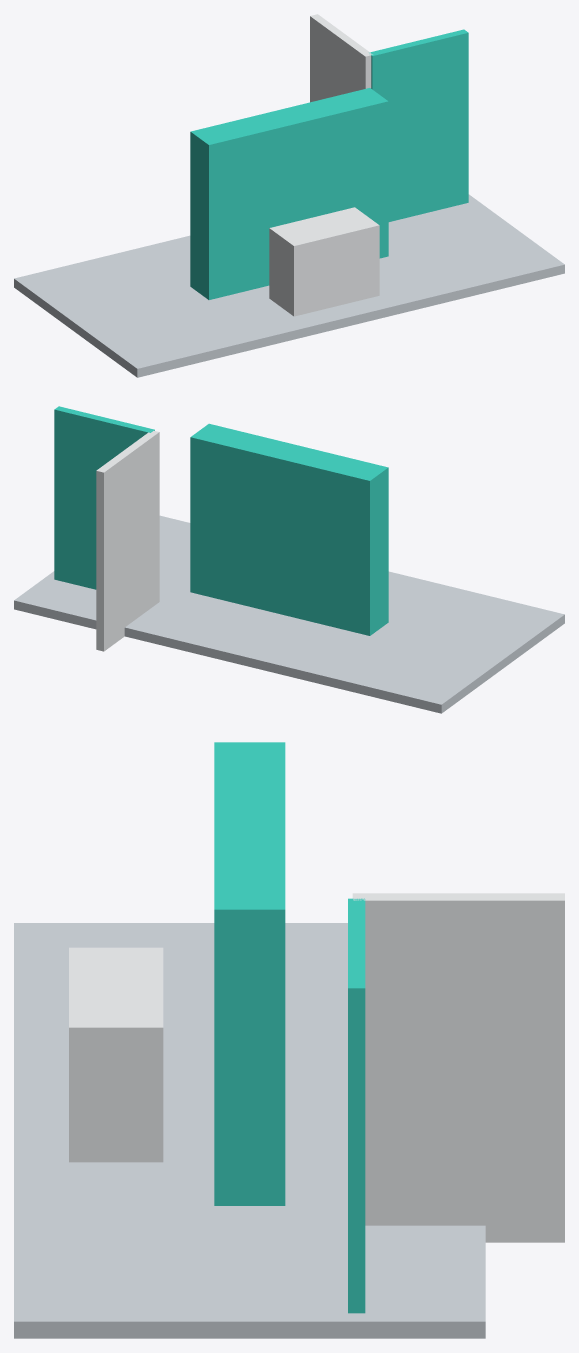
The picture shows the model from 3 angles, top to bottom: view 1: azimuth 30°, elevation 25°; view 2: azimuth 150°, elevation 25°; view 3: azimuth 270°, elevation 25°; orthographic projection. The views are drawn at different scales.
Visible parts, largest first — view 1: Exhibition Booth Concept; view 2: Exhibition Booth Concept; view 3: Exhibition Booth Concept.
Part boxes in pixels (x1,y1,x2,y2): Exhibition Booth Concept: (14, 14, 564, 377); Exhibition Booth Concept: (14, 406, 564, 713); Exhibition Booth Concept: (14, 742, 564, 1338).
Size of the model in its own units: 6 by 2.4 by 3.51.
